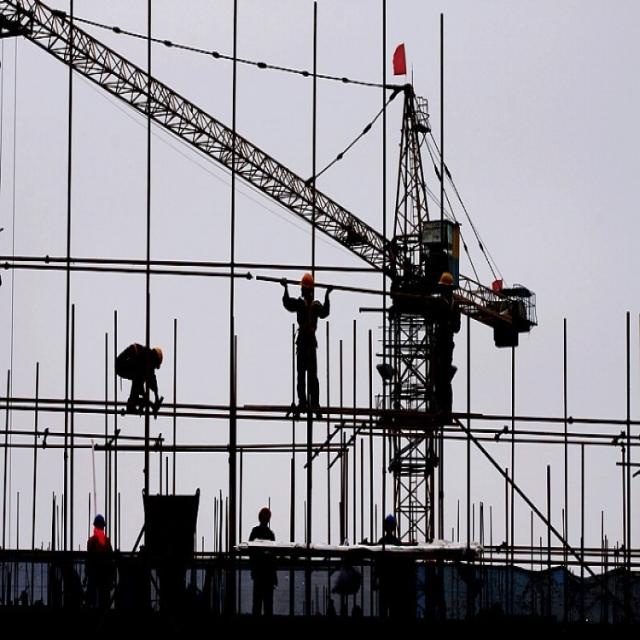Con_Casco: (300, 273, 316, 298)
